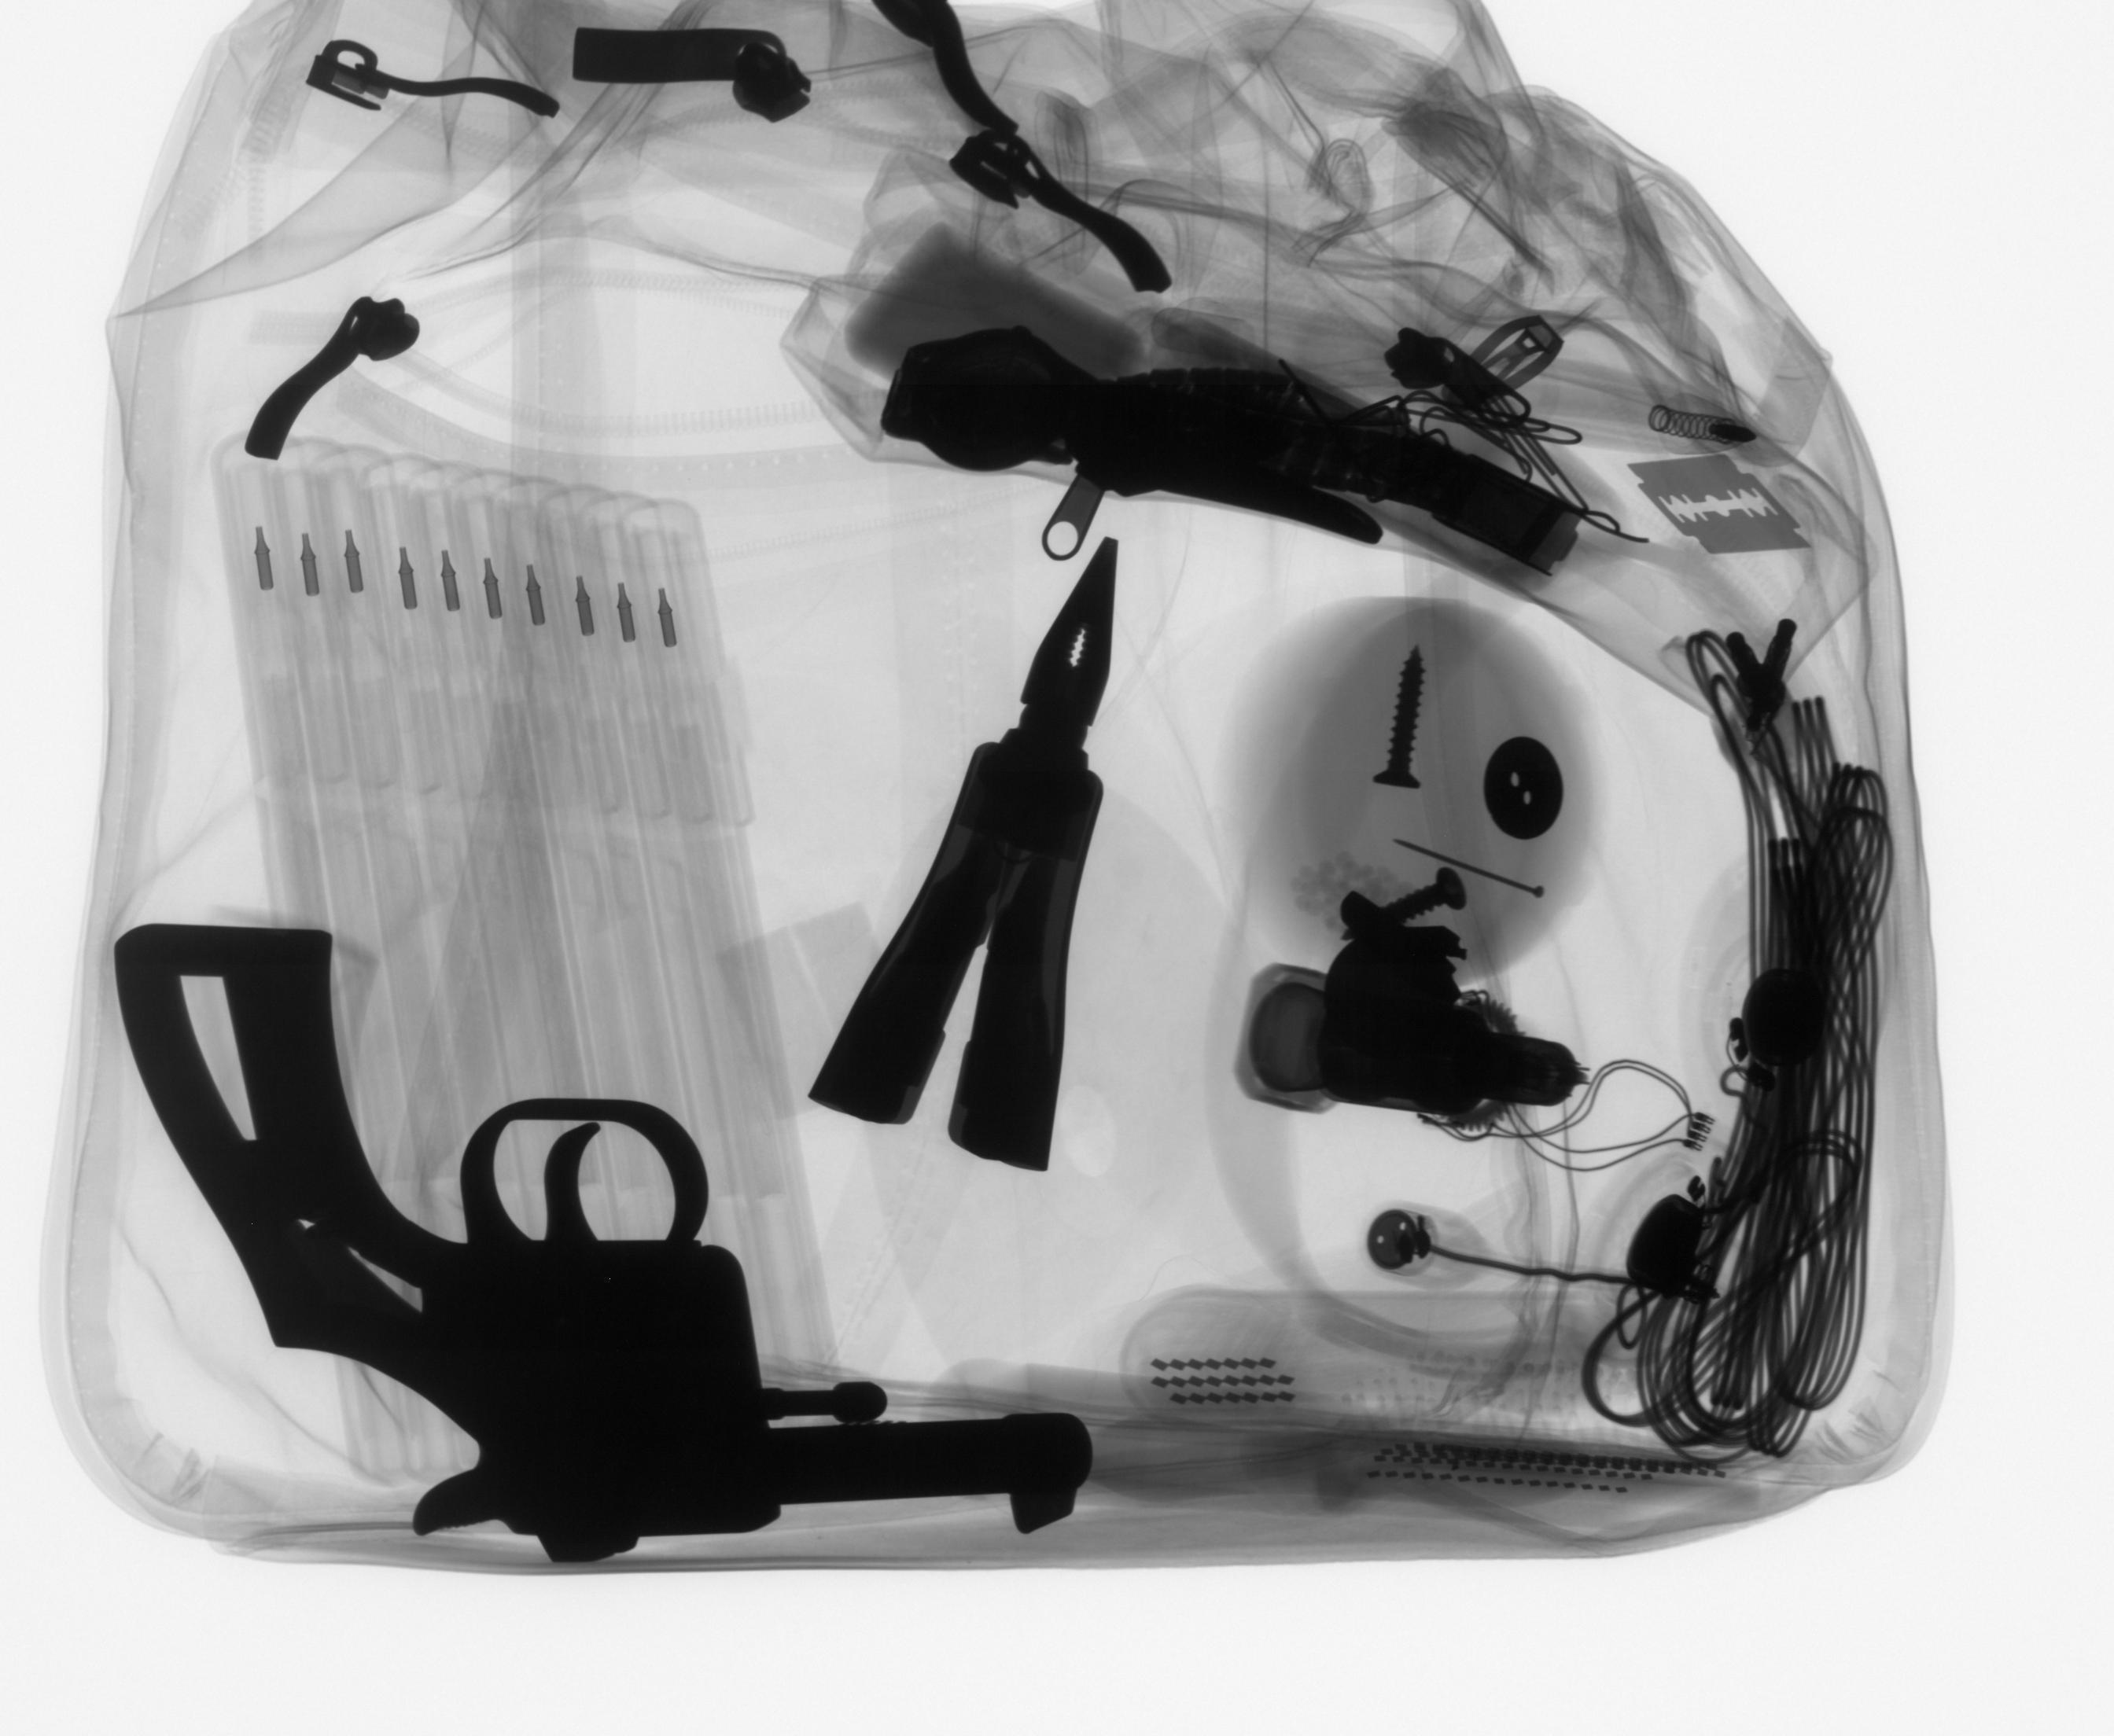Handgun: (103, 916, 1110, 1577)
RazorBlade: (1621, 448, 1823, 559)
